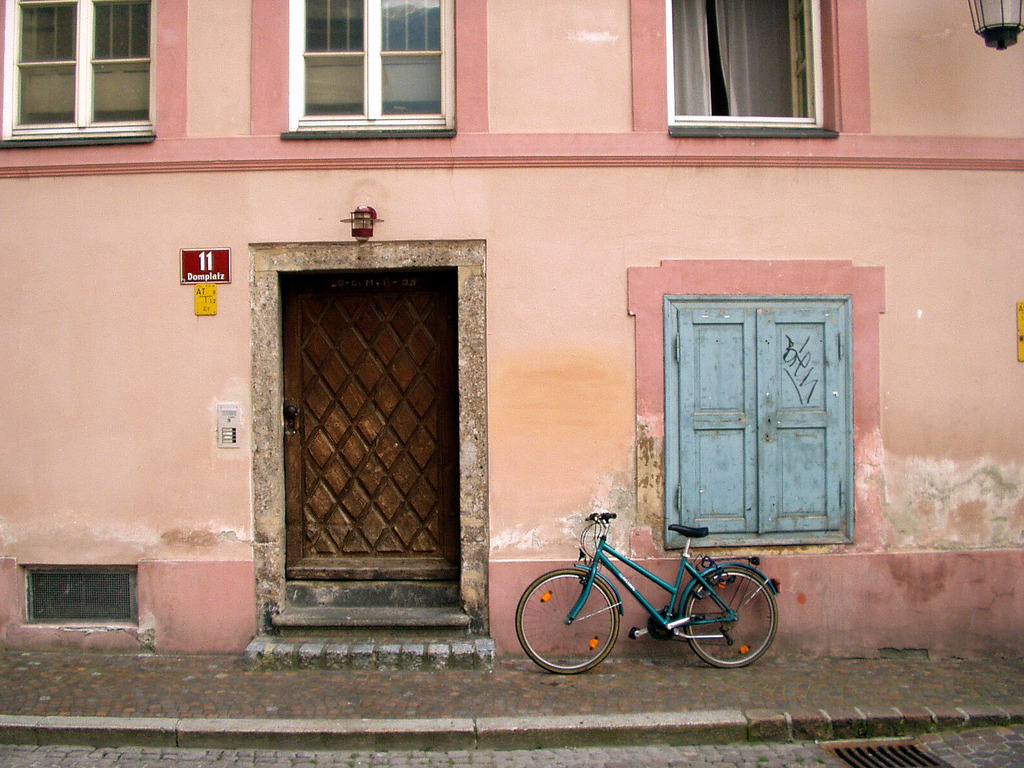Bike_toward: (507, 499, 809, 697)
